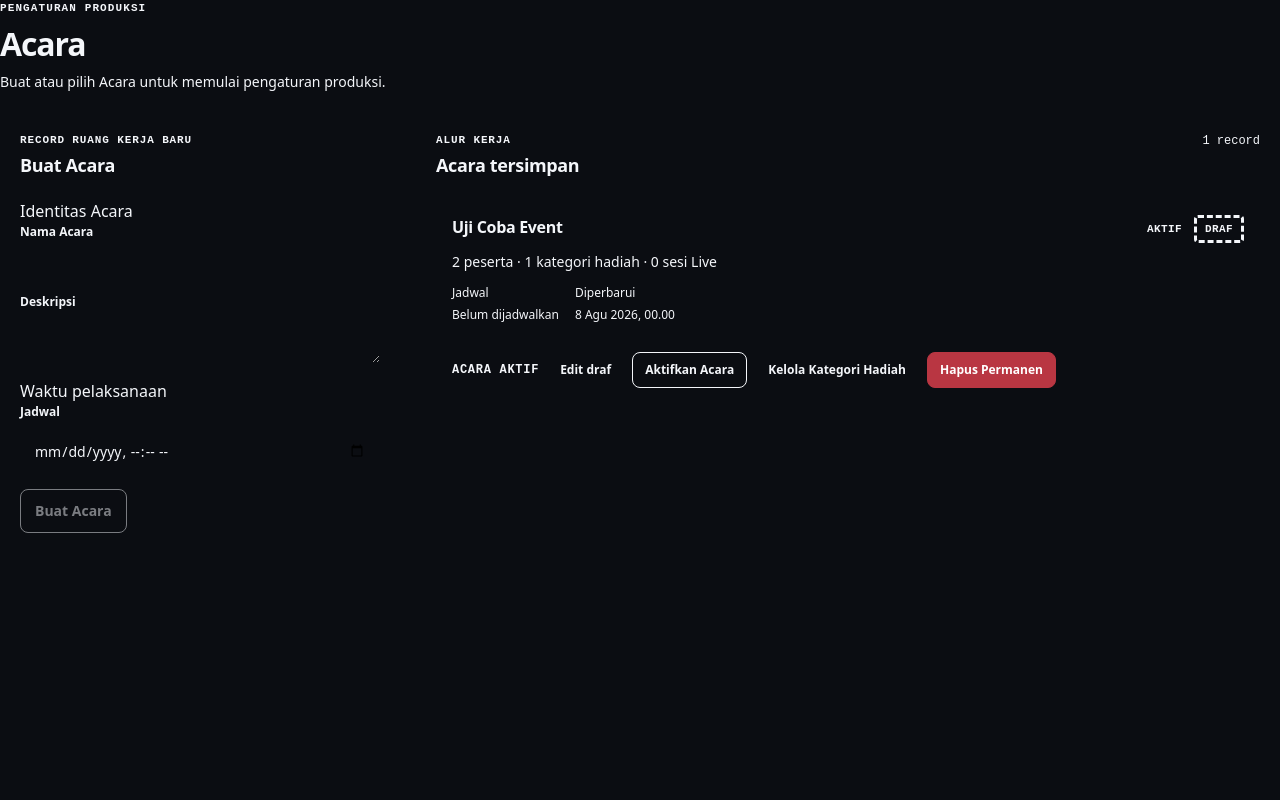
Test: EventsPage activation flow › cancels without changing Draft, then activates to Ready while remaining Current
This screenshot has width=1280, height=800.
Click the button "Aktifkan Acara": [690, 370] box x1=632 y1=352 x2=747 y2=388
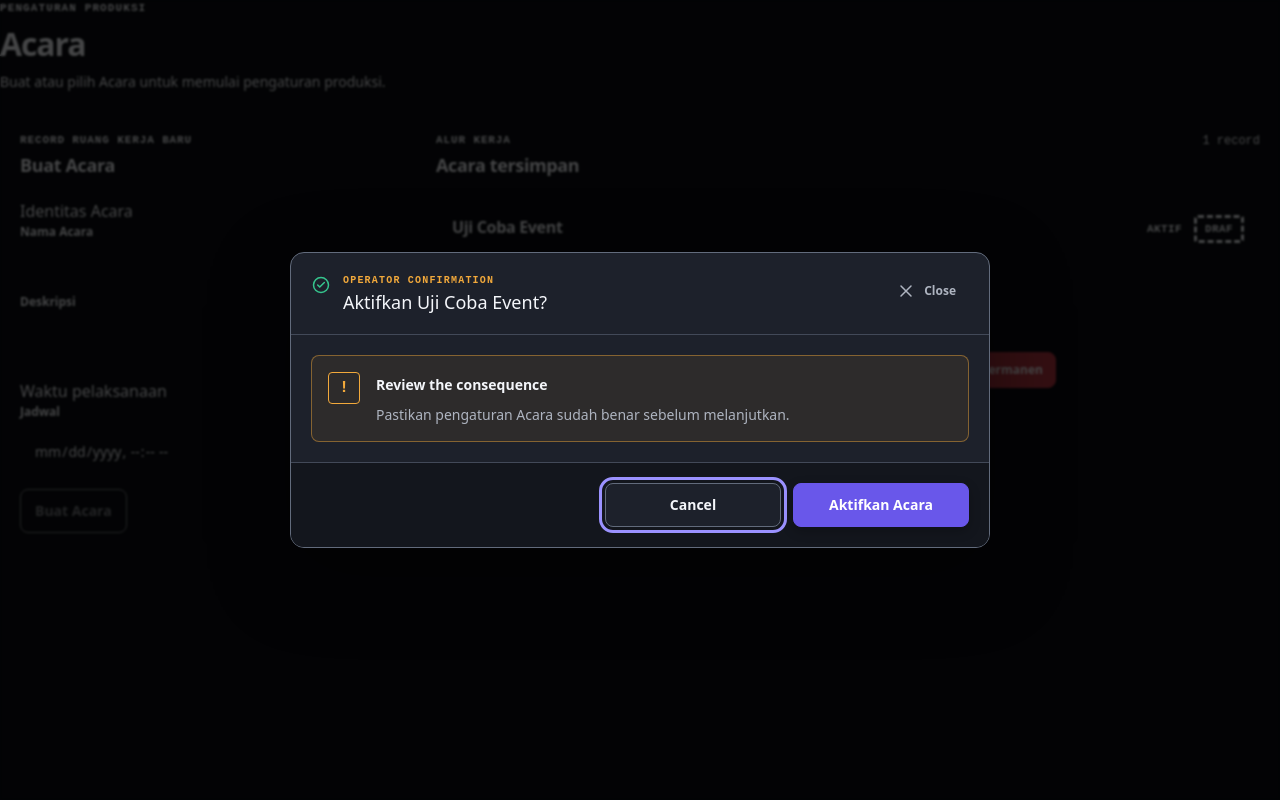
Click the button "Cancel": [693, 505] box x1=605 y1=483 x2=781 y2=527
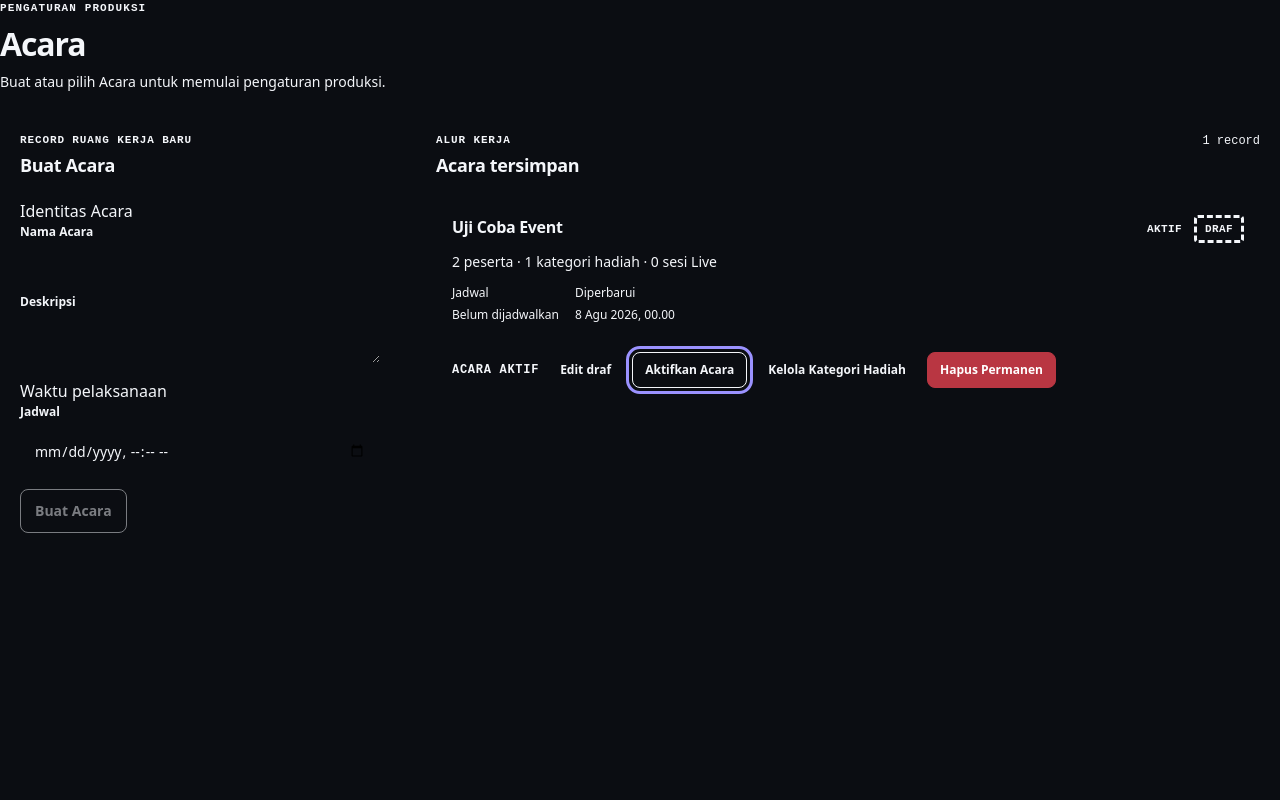
Expected: the text "DRAF" is shown, x1=1194 y1=215 x2=1244 y2=243
Click the button "Aktifkan Acara": [690, 370] box x1=632 y1=352 x2=747 y2=388
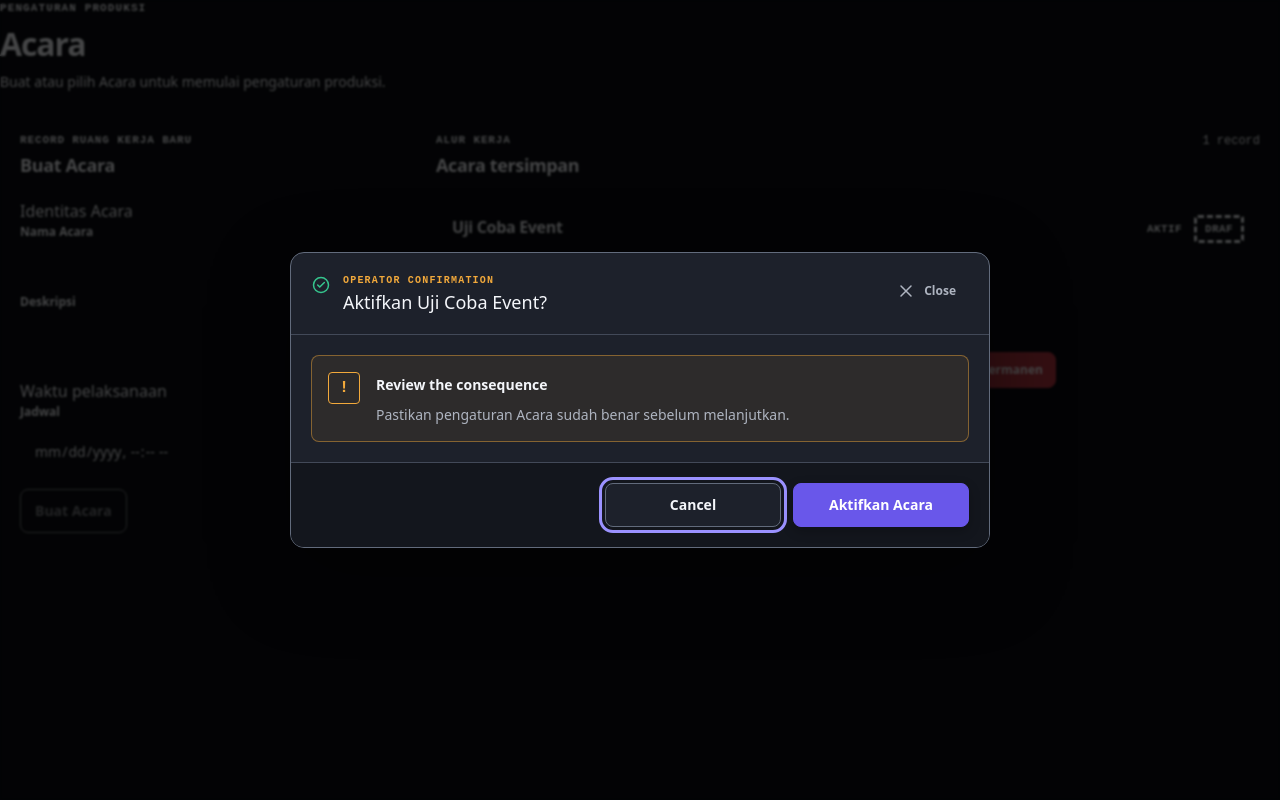
Click the button "Aktifkan Acara": [881, 505] box x1=793 y1=483 x2=969 y2=527
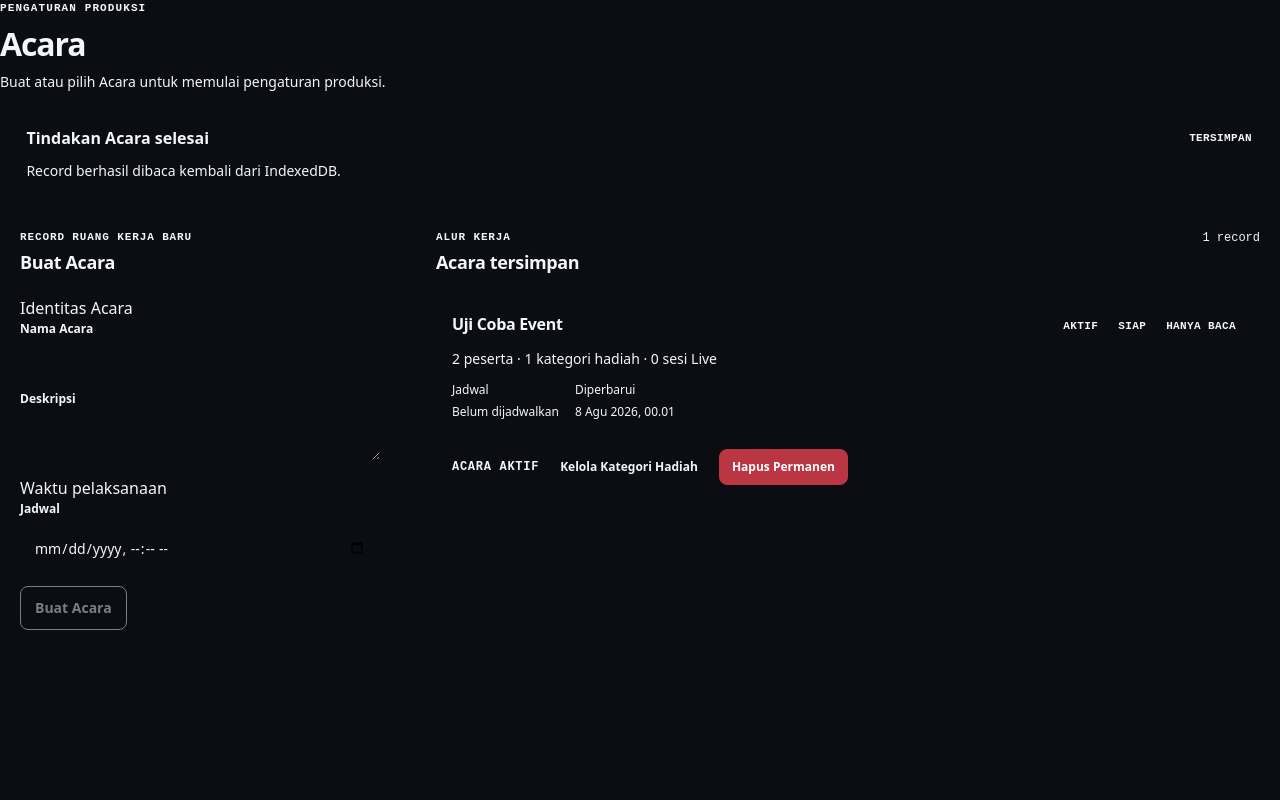
Expected: the text "AKTIF" is shown, x1=1063 y1=320 x2=1098 y2=332
Result: the text "SIAP" is shown at x1=1118 y1=320 x2=1146 y2=332
Result: the button "Aktifkan Acara" is gone
